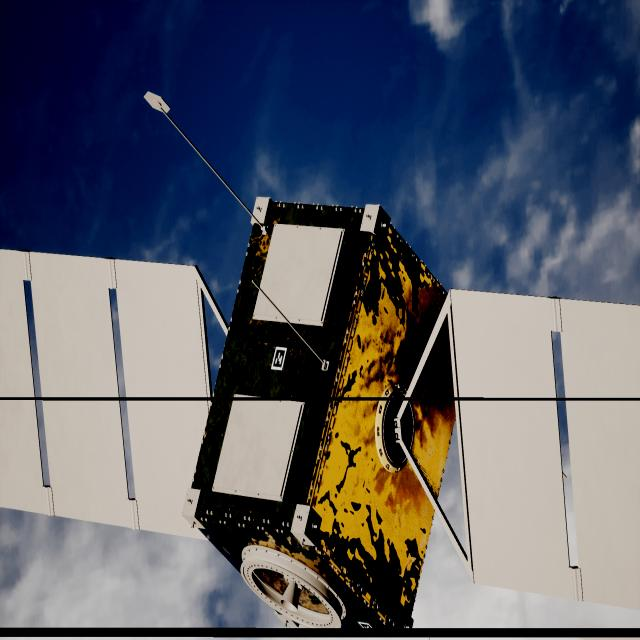satellite: (0, 199, 640, 630)
